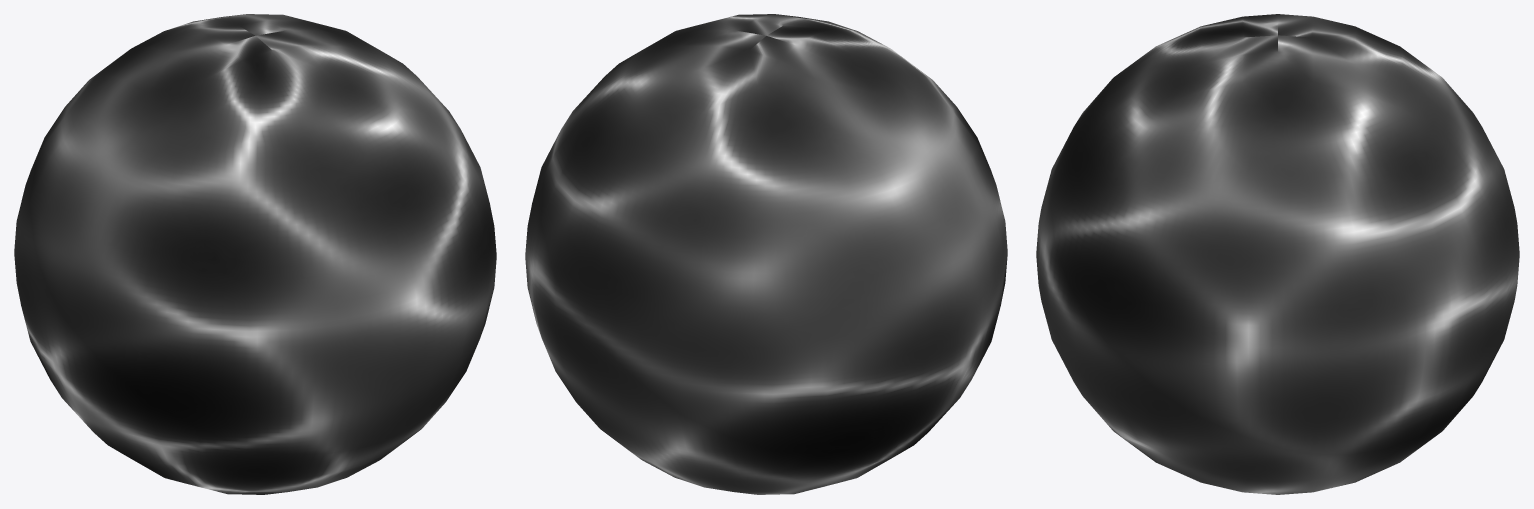
File: eff_Sphericalcube02.fbx
3 renders of one model, left to right at view 1: azimuth 30°, elevation 25°; view 2: azimuth 150°, elevation 25°; view 3: azimuth 270°, elevation 25°, orthographic.
Visible parts, largest first — view 1: eff_Sphericalcube02_rear_msh, eff_Sphericalcube02_front_msh; view 2: eff_Sphericalcube02_front_msh, eff_Sphericalcube02_rear_msh; view 3: eff_Sphericalcube02_front_msh, eff_Sphericalcube02_rear_msh.
Part boxes in pixels (left/top/right/bottom): eff_Sphericalcube02_rear_msh: left=46, top=30, right=496, bottom=494; eff_Sphericalcube02_front_msh: left=14, top=14, right=394, bottom=443; eff_Sphericalcube02_front_msh: left=525, top=30, right=975, bottom=494; eff_Sphericalcube02_rear_msh: left=627, top=14, right=1007, bottom=443; eff_Sphericalcube02_front_msh: left=1278, top=14, right=1519, bottom=494; eff_Sphericalcube02_rear_msh: left=1036, top=14, right=1277, bottom=494.
Size of the model in its own units: 9 by 9 by 9.
